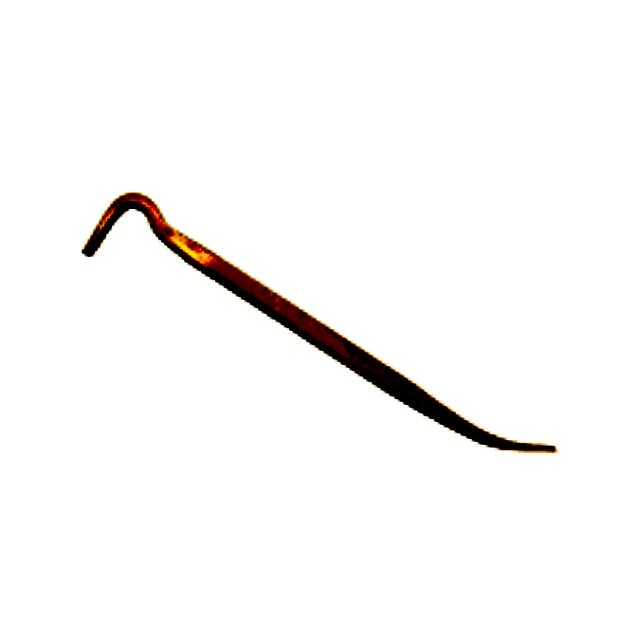crow bar: (74, 186, 562, 462)
